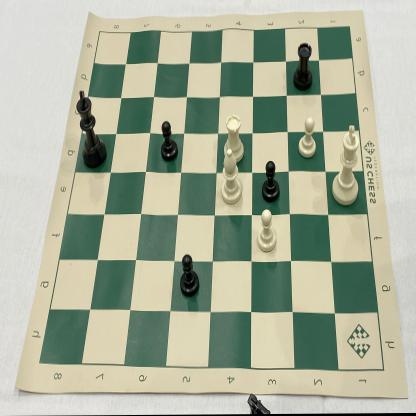black-king: (74, 87, 110, 170)
black-pawn: (178, 248, 202, 300), (158, 116, 180, 165), (260, 157, 282, 203)
black-rook: (290, 39, 314, 95)
white-bishop: (218, 147, 245, 208)
white-king: (328, 121, 364, 210)
white-pawn: (254, 205, 280, 257), (296, 114, 318, 160)
white-rook: (221, 111, 247, 167)
